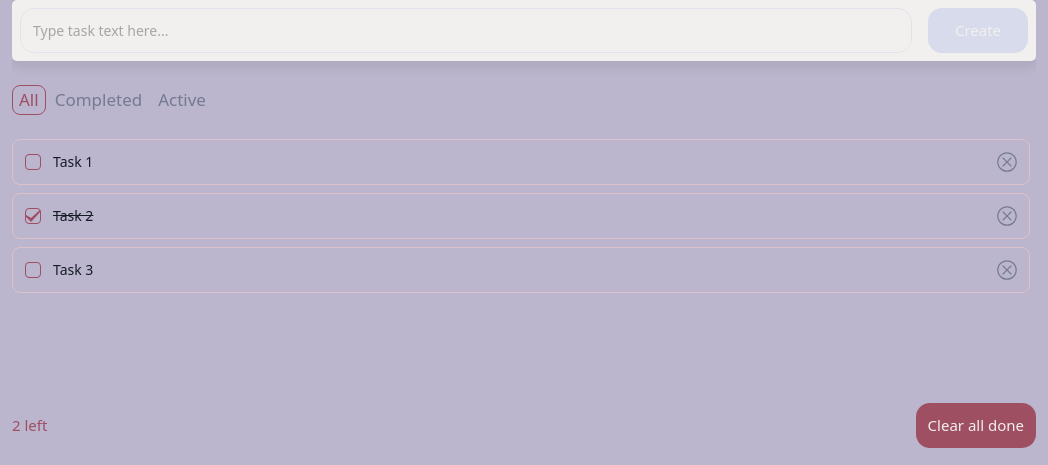
Scenario: TaskPanel › can filter tasks
The image size is (1048, 465).
Check: the text "Task 1" is shown, box [53,152,93,171]
Check: the text "Task 2" is shown, box [53,206,93,225]
# Click on Completed filter
Click the button with test id "filter-completed".
click(98, 100)  # box [48,85,149,115]
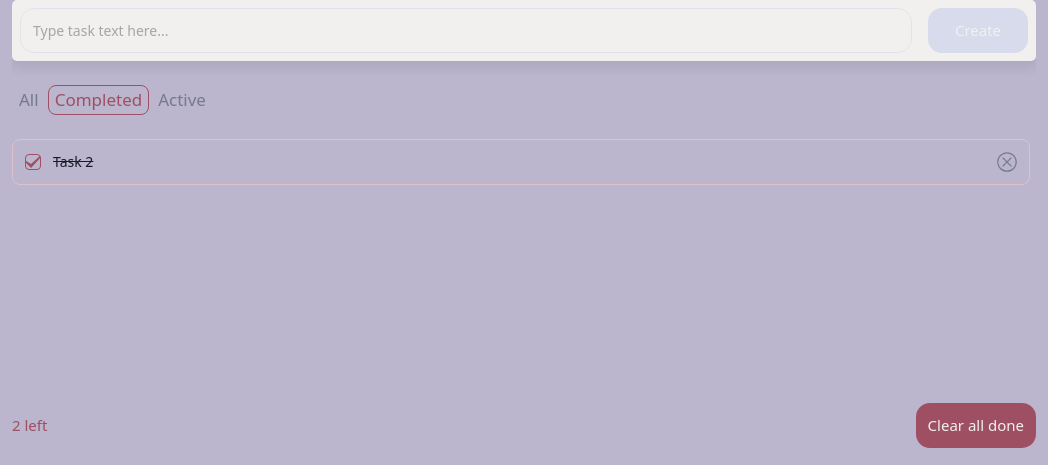
Check: the text "Task 2" is shown, box [53,152,93,171]
Check: the text "Task 1" is gone
Check: the text "Task 3" is gone
# Click on Active filter
Click the button with test id "filter-active".
click(182, 100)  # box [151,85,213,115]
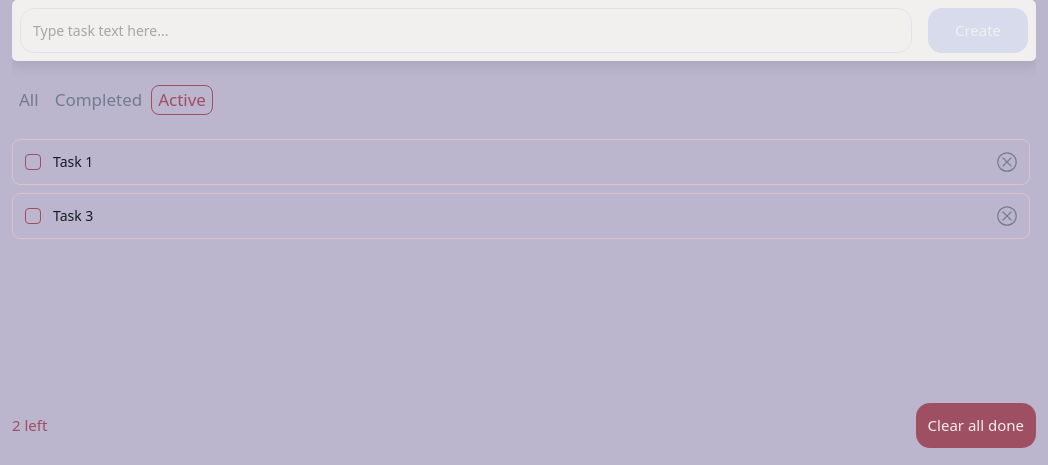
Check: the text "Task 1" is shown, box [53,152,93,171]
Check: the text "Task 2" is gone
Check: the text "Task 3" is shown, box [53,206,93,225]
# Click on All filter
Click the button with test id "filter-all".
click(29, 100)  # box [12,85,46,115]
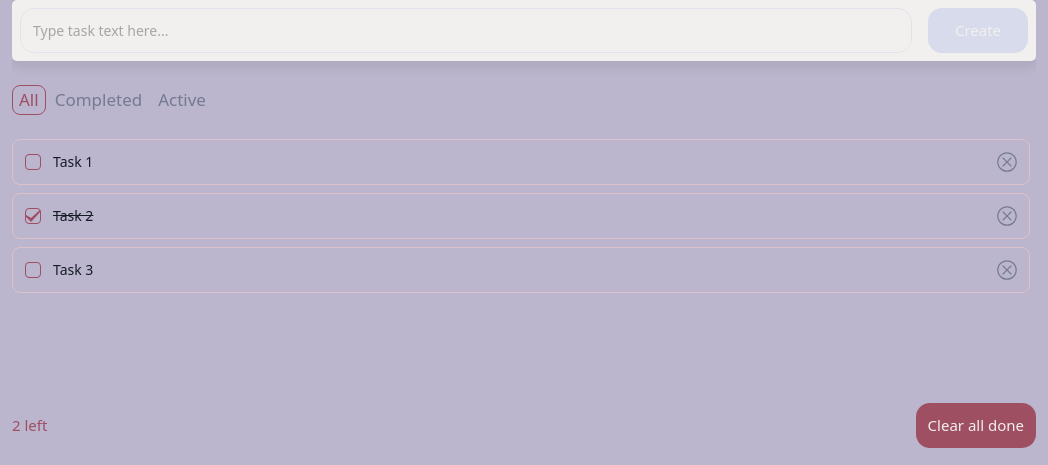
Check: the text "Task 1" is shown, box [53,152,93,171]
Check: the text "Task 3" is shown, box [53,260,93,279]
Check: the text "Task 2" is shown, box [53,206,93,225]
